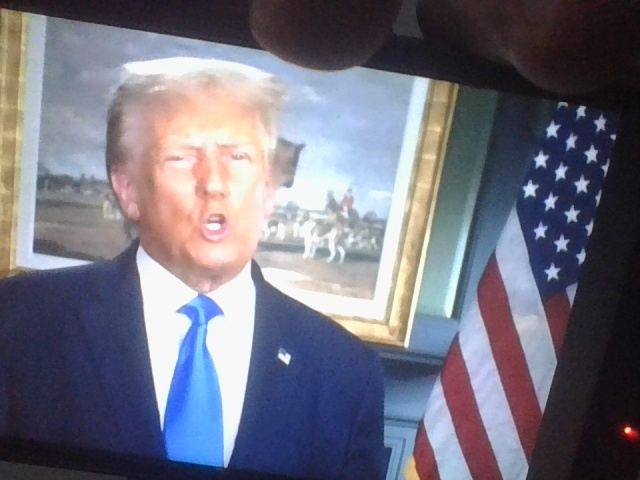fake: (125, 53, 287, 282)
